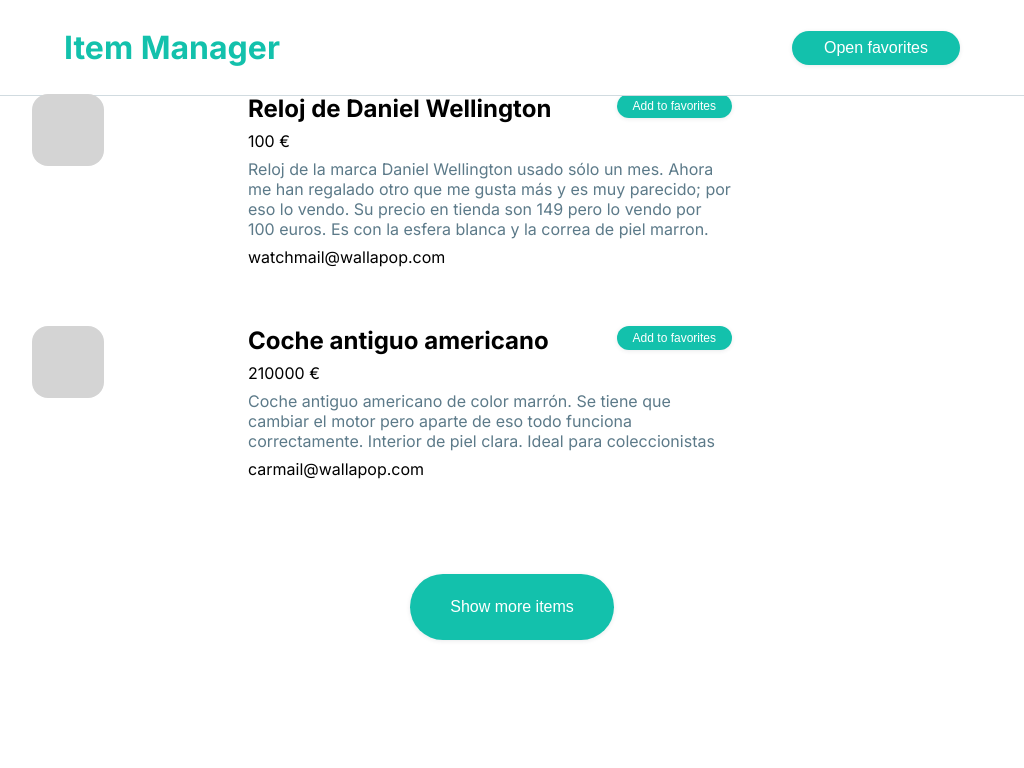
it: Item Manager App › don't show a 'show more items' button when there wasn't a next page available
Click the button "Show more items".
click(512, 607)  # box [410,574,614,640]
(page scrolled)
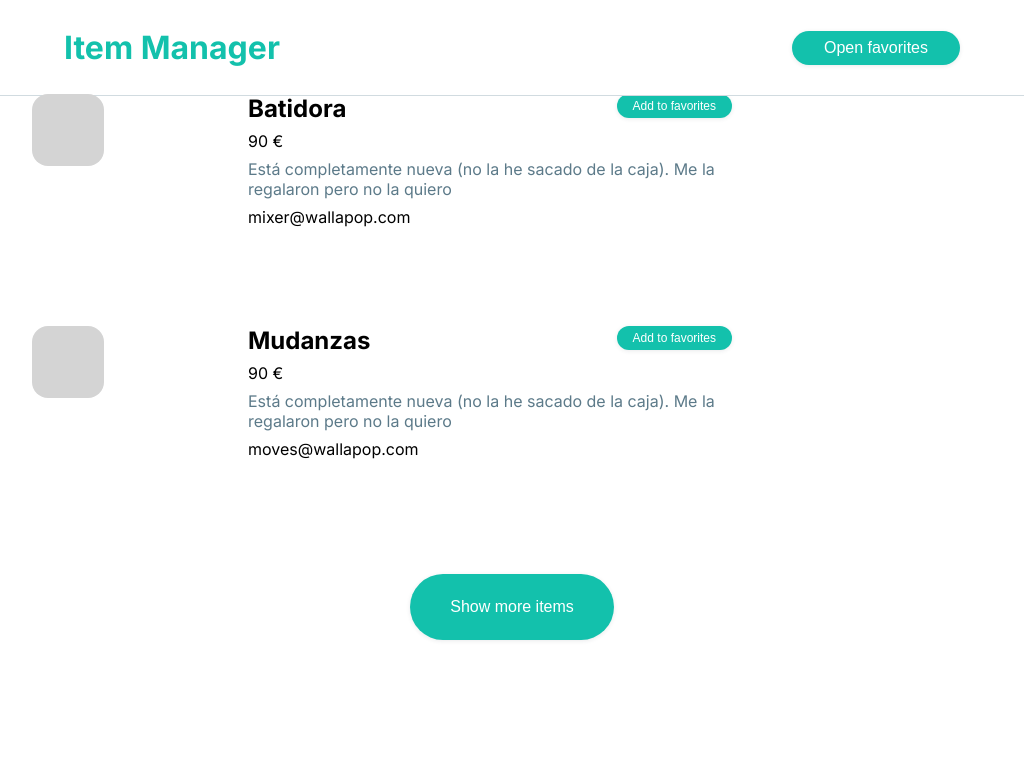
Click the button "Show more items".
click(512, 607)  # box [410,574,614,640]
(page scrolled)
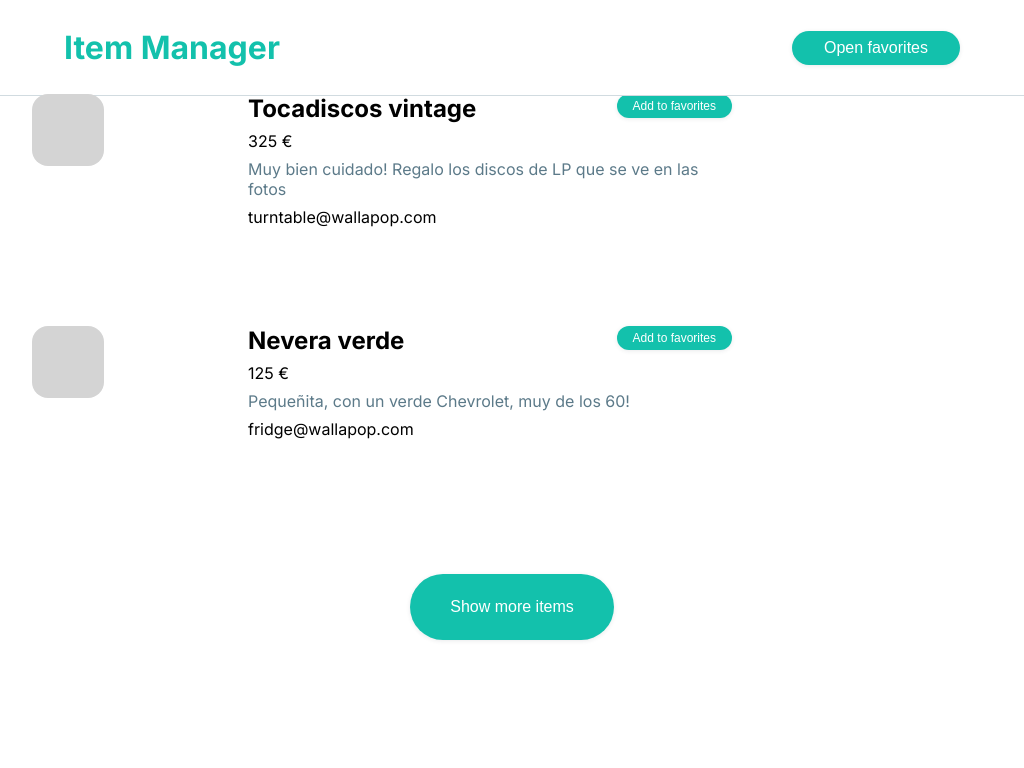
Click the button "Show more items".
click(512, 607)  # box [410,574,614,640]
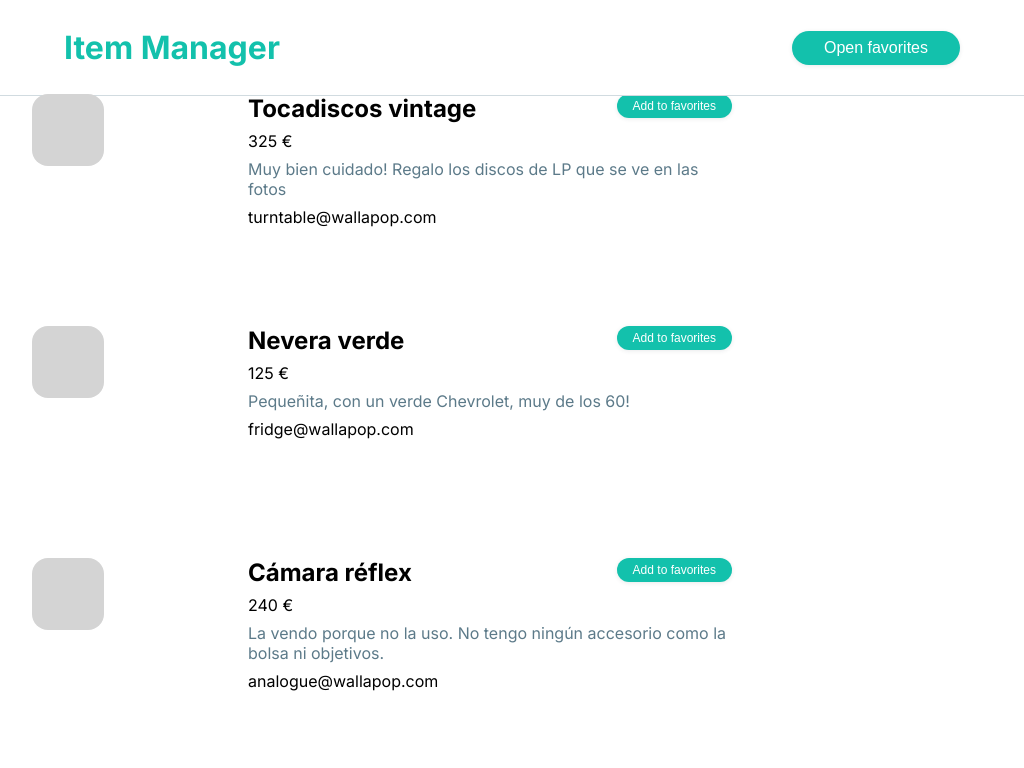
Check: the button "Show more items" is gone
